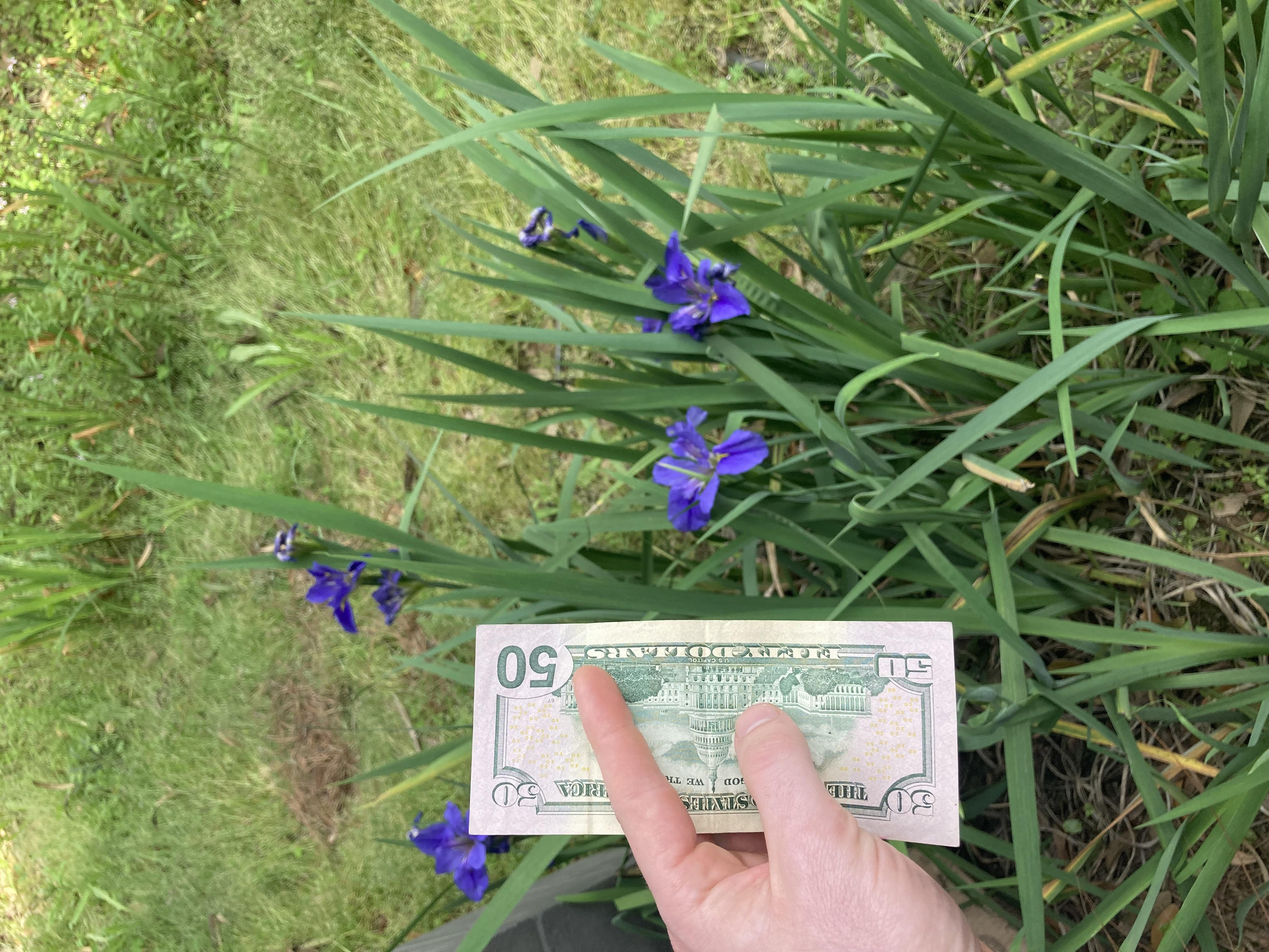fifty-back: (139, 353, 443, 719)
